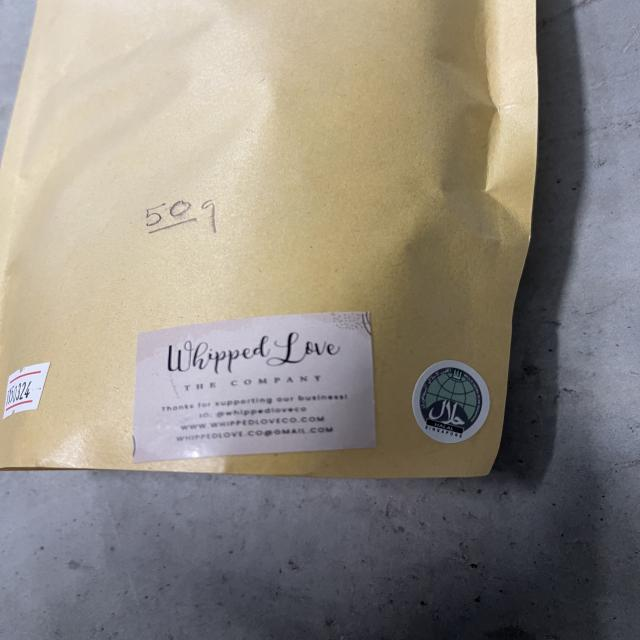object_name: (8, 0, 506, 462)
